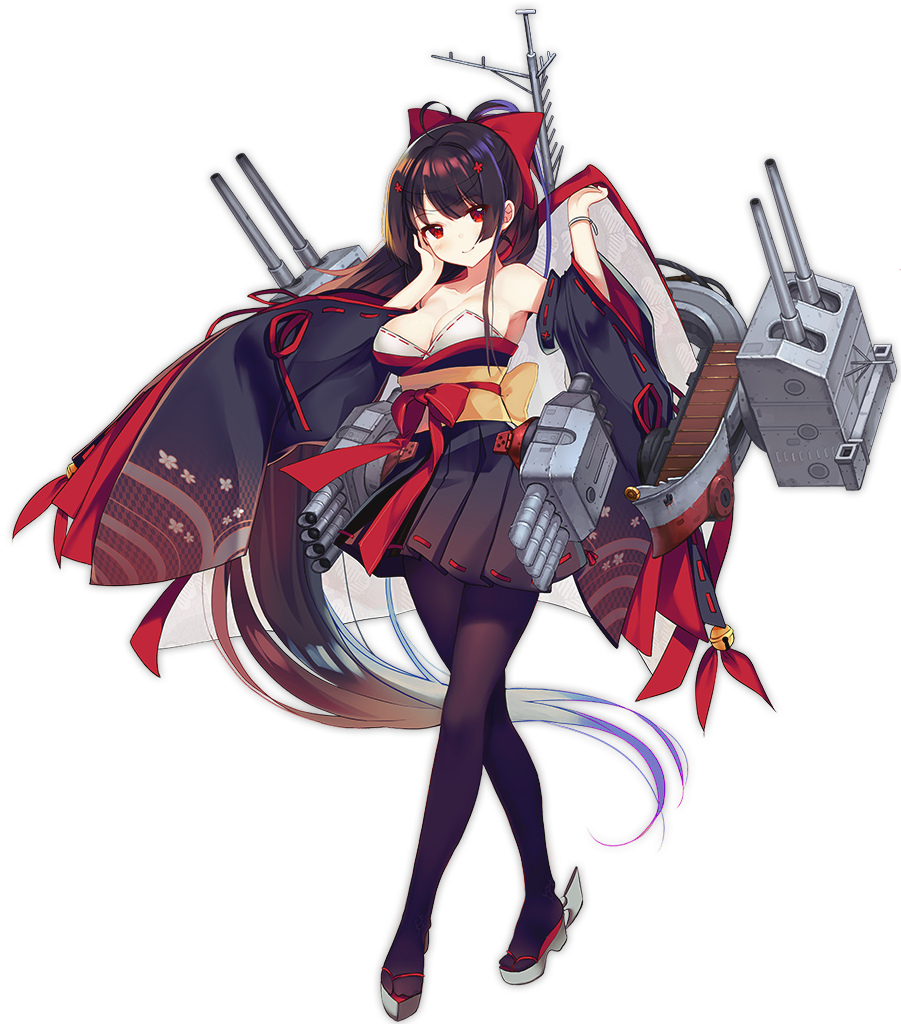person: (249, 116, 645, 777)
